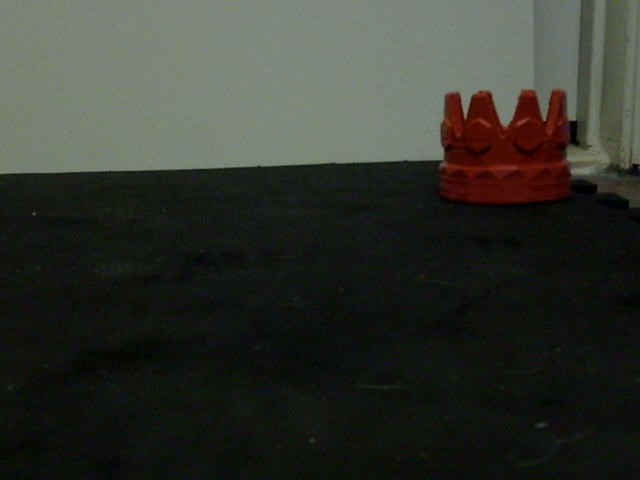crown: (435, 85, 578, 207)
